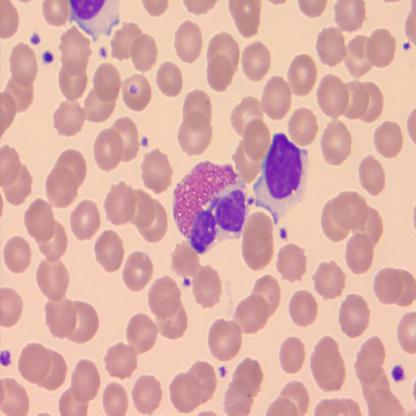Eosinophil: (172, 161, 254, 253)
